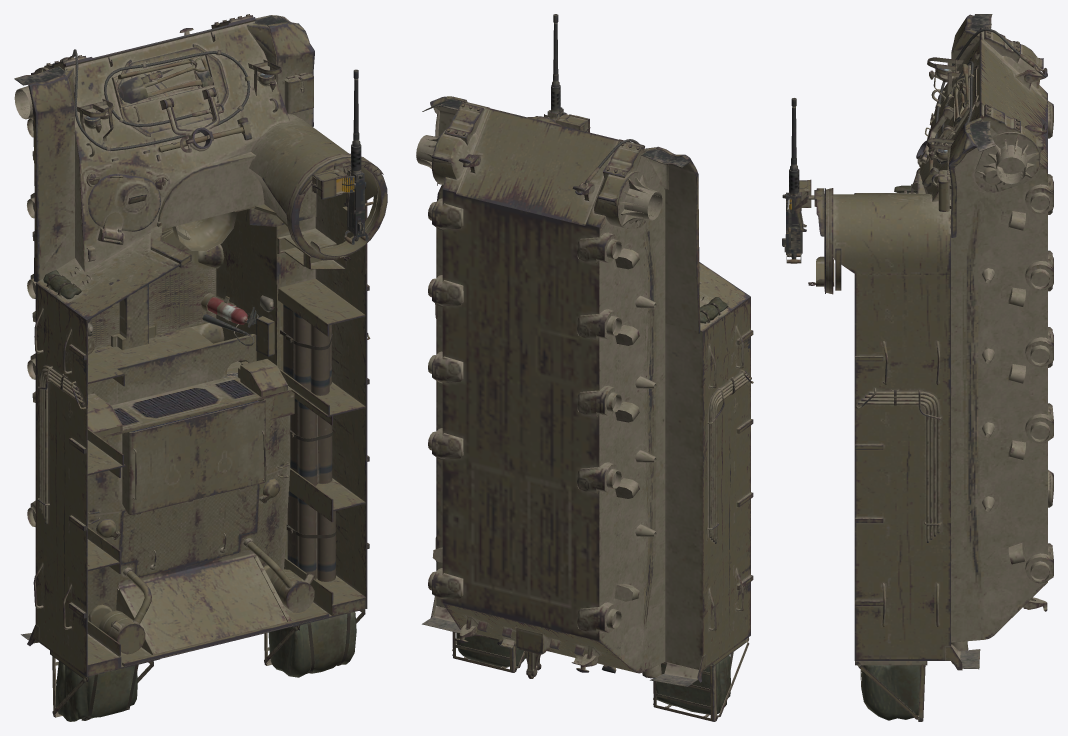
File: Hull.glb
3 views of the same model, side by side, from view 1: azimuth 30°, elevation 25°; view 2: azimuth 150°, elevation 25°; view 3: azimuth 270°, elevation 25° (orthographic). The views are drawn at different scales.
Visible parts, largest first — view 1: set_0_group_0; view 2: set_0_group_0; view 3: set_0_group_0.
Boxes of the visible parts, left/top/right/bottom form: set_0_group_0: left=14, top=14, right=387, bottom=721; set_0_group_0: left=416, top=14, right=753, bottom=721; set_0_group_0: left=782, top=14, right=1053, bottom=721.
Size of the model in its own units: 3 by 6.22 by 2.52.
1 material, 1 textured.
